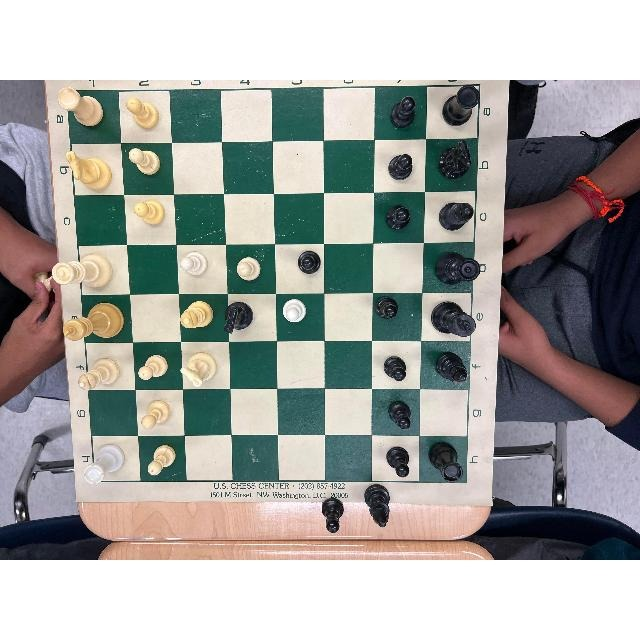black-bishop: (429, 344, 476, 393), (434, 198, 479, 236)
black-king: (429, 296, 481, 342)
black-knight: (435, 136, 479, 182), (434, 195, 479, 238), (222, 301, 257, 337)
black-pawn: (383, 91, 424, 137), (383, 440, 417, 482), (384, 392, 420, 431), (384, 148, 418, 184), (383, 200, 415, 236), (294, 246, 325, 278), (380, 351, 410, 383), (372, 292, 402, 324)
black-queen: (429, 247, 485, 289)
black-rook: (438, 81, 486, 131), (425, 437, 466, 489)
white-bishop: (72, 352, 126, 395), (172, 293, 218, 334)
white-king: (57, 299, 130, 345)
white-knight: (60, 147, 117, 192), (176, 348, 224, 392)
white-pawn: (137, 438, 181, 480), (124, 91, 166, 133), (138, 395, 178, 433), (175, 248, 217, 281), (131, 352, 171, 386), (127, 146, 166, 179), (130, 197, 167, 231), (232, 254, 266, 286), (279, 295, 311, 326)
white-queen: (46, 250, 121, 292)
white-rook: (55, 83, 109, 137), (77, 440, 130, 489)
